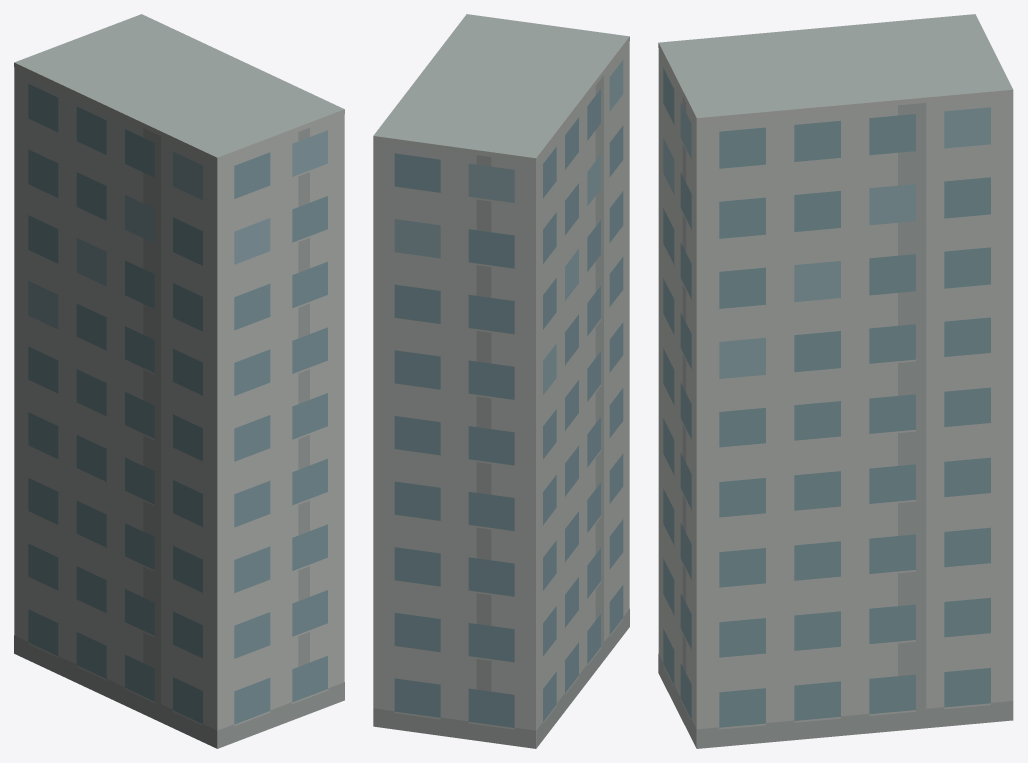
File: residential-d8c878c3-78f2-4cb5-a95f-c5022f1d0b07.glb
The picture shows the model from 3 angles, left to right: view 1: azimuth 30°, elevation 25°; view 2: azimuth 150°, elevation 25°; view 3: azimuth 270°, elevation 25°; orthographic projection. The views are drawn at different scales.
Parts seen in each view (by area): view 1: residential-d8c878c3-78f2-4cb5-a95f-c5022f1d0b07.tmp; view 2: residential-d8c878c3-78f2-4cb5-a95f-c5022f1d0b07.tmp; view 3: residential-d8c878c3-78f2-4cb5-a95f-c5022f1d0b07.tmp.
Boxes of the visible parts, <box> form: residential-d8c878c3-78f2-4cb5-a95f-c5022f1d0b07.tmp: <box>14,14,344,748</box>; residential-d8c878c3-78f2-4cb5-a95f-c5022f1d0b07.tmp: <box>373,14,629,748</box>; residential-d8c878c3-78f2-4cb5-a95f-c5022f1d0b07.tmp: <box>658,14,1013,748</box>.
Bounding box in the file's own units: 10.28 × 29 × 14.79.
